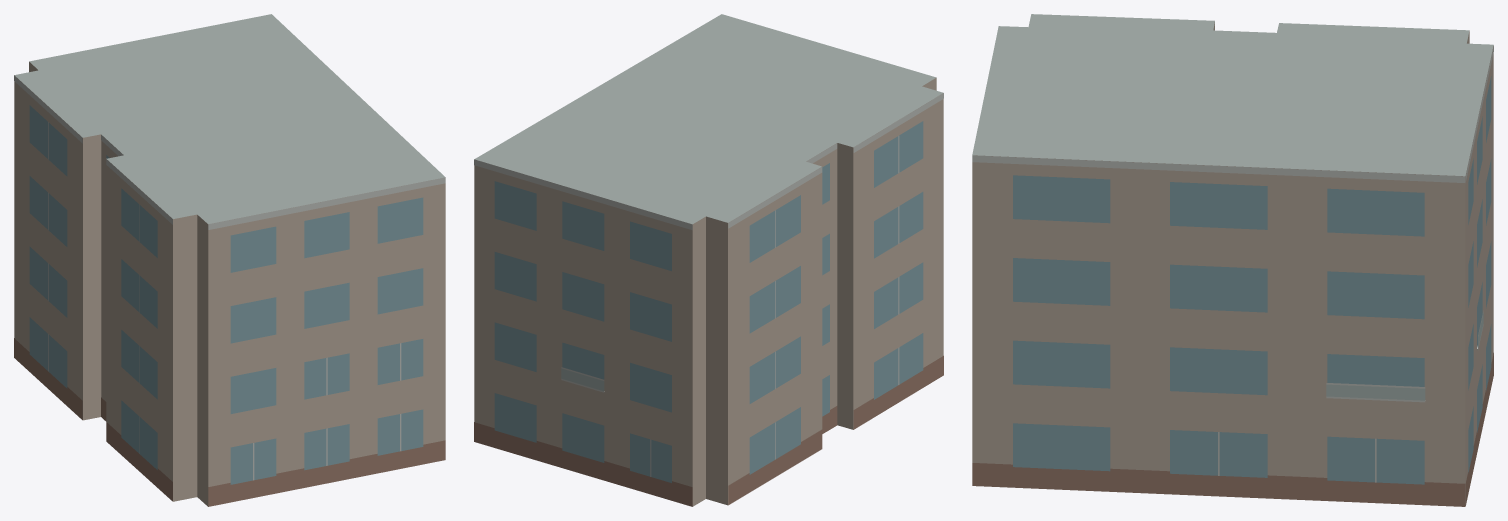
Rendered from survey-upis-33012969.glb.
3 views of the same model, side by side, from view 1: azimuth 30°, elevation 25°; view 2: azimuth 150°, elevation 25°; view 3: azimuth 270°, elevation 25° (orthographic). The views are drawn at different scales.
Parts seen in each view (by area): view 1: survey-upis-33012969.tmp; view 2: survey-upis-33012969.tmp; view 3: survey-upis-33012969.tmp.
Part boxes in pixels (x1,y1,x2,y2): survey-upis-33012969.tmp: (14, 14, 445, 506); survey-upis-33012969.tmp: (474, 14, 943, 506); survey-upis-33012969.tmp: (972, 14, 1493, 506).
Size of the model in its own units: 12.21 by 11.6 by 16.59.
